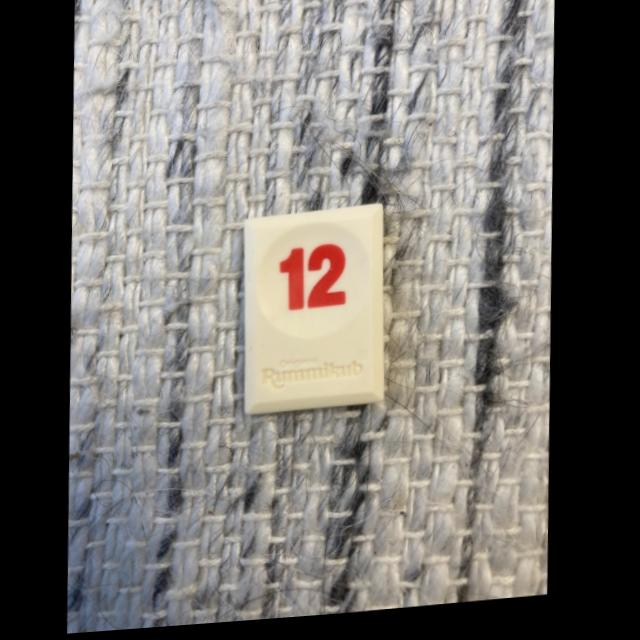red_12: (245, 210, 386, 418)
